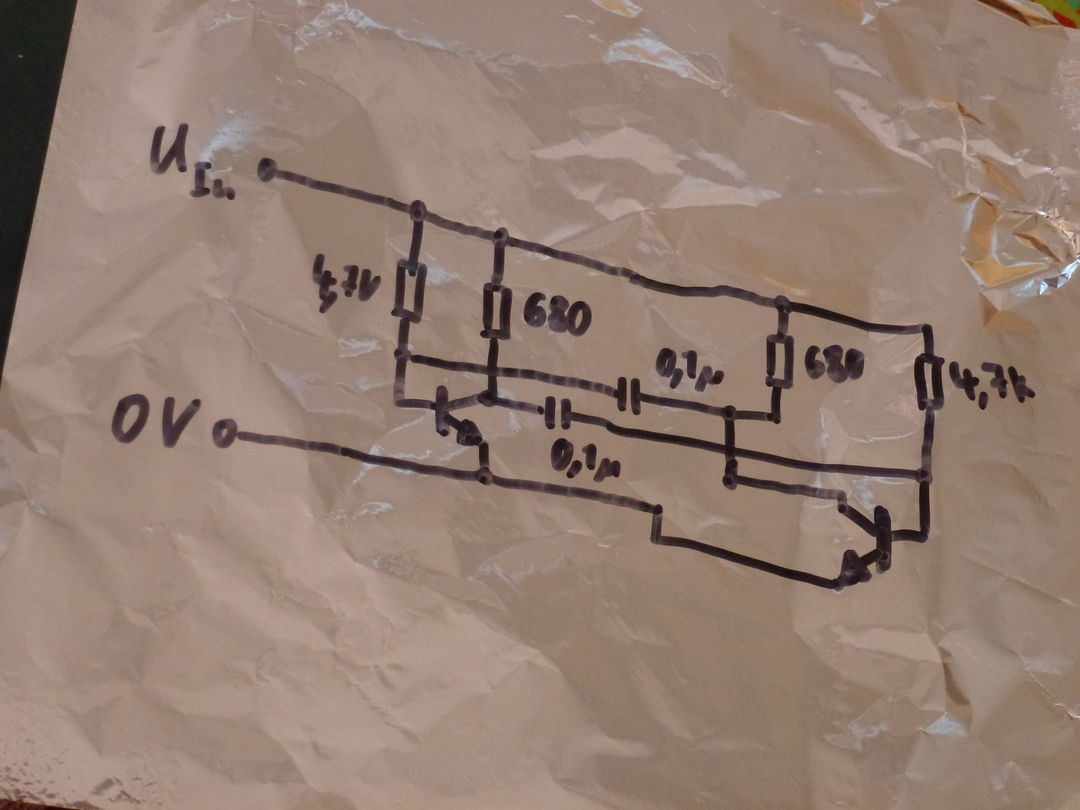capacitor.unpolarized: (613, 373, 646, 418), (539, 393, 574, 434)
crossover: (481, 360, 503, 381), (720, 441, 742, 461)
junction: (407, 198, 429, 225), (478, 387, 501, 409), (913, 465, 935, 488), (772, 293, 793, 316), (474, 467, 495, 489), (720, 471, 742, 492), (718, 402, 738, 423), (392, 346, 414, 365), (491, 226, 509, 249), (765, 408, 785, 427), (914, 526, 932, 547), (647, 531, 664, 548), (390, 396, 409, 411), (919, 321, 936, 337), (650, 501, 665, 517), (834, 487, 848, 502)
resistor: (389, 257, 429, 325), (479, 280, 514, 343), (913, 351, 947, 412), (764, 330, 796, 391)
terminal: (210, 416, 242, 451), (256, 155, 281, 184)
text: (147, 120, 240, 204), (109, 392, 203, 450), (948, 359, 1038, 412), (310, 251, 383, 316), (548, 437, 623, 483), (653, 346, 726, 393), (522, 290, 593, 338), (803, 343, 866, 385)
transistor: (836, 503, 894, 592), (434, 385, 490, 448)
